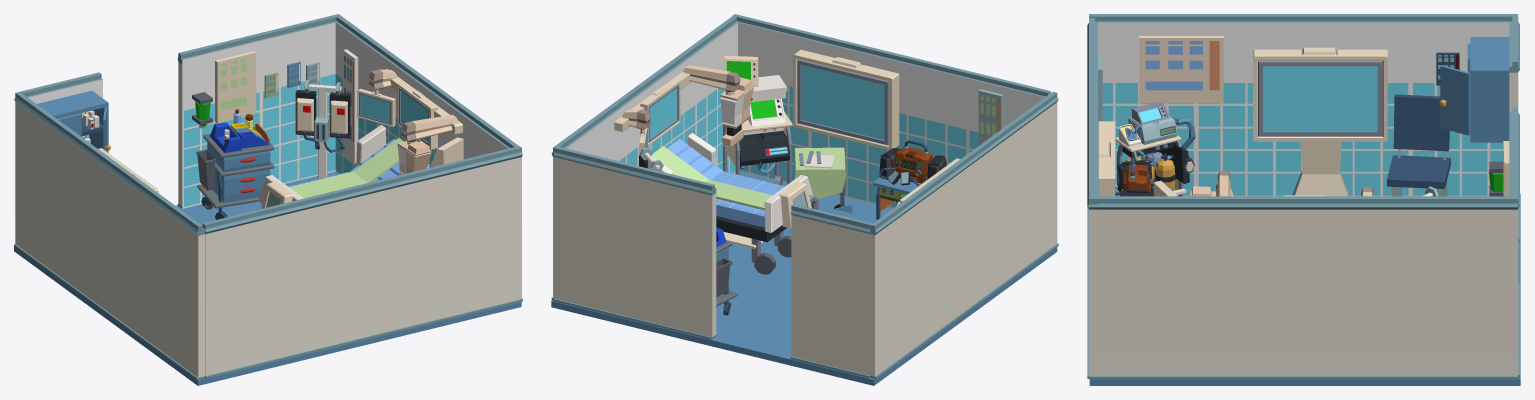
Rendered from g_o_RoomTraumaTreatment.fbx.
The picture shows the model from 3 angles, left to right: view 1: azimuth 30°, elevation 25°; view 2: azimuth 150°, elevation 25°; view 3: azimuth 270°, elevation 25°; orthographic projection. The views are drawn at different scales.
Visible parts, largest first — view 1: neurosurgery2; view 2: neurosurgery2; view 3: neurosurgery2.
Boxes of the visible parts, box(x1,y1,x2,y2) form: neurosurgery2: box(14, 14, 522, 385); neurosurgery2: box(551, 14, 1058, 385); neurosurgery2: box(1087, 14, 1520, 385).
Size of the model in its own units: 411 by 192 by 404.
